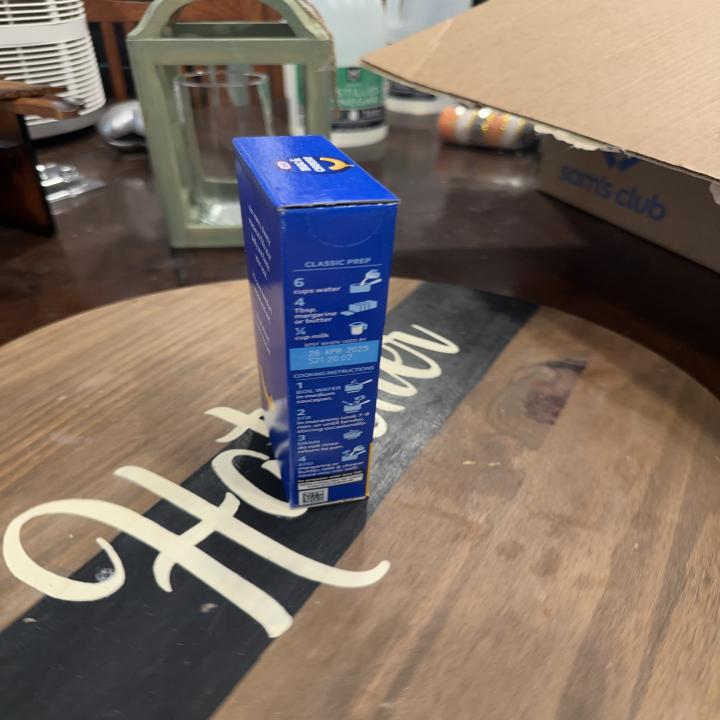Mac-And-Cheese: (231, 131, 402, 517)
